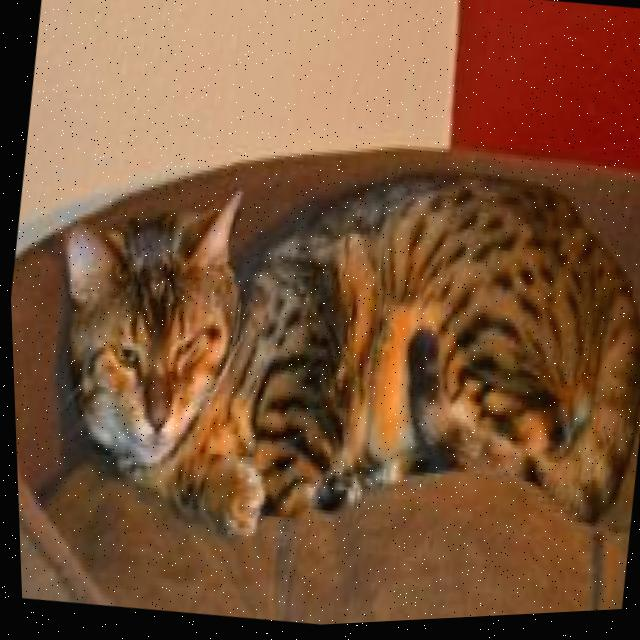Bengal: (16, 104, 640, 615)
